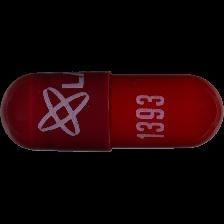54868-5472: (0, 0, 224, 224)
